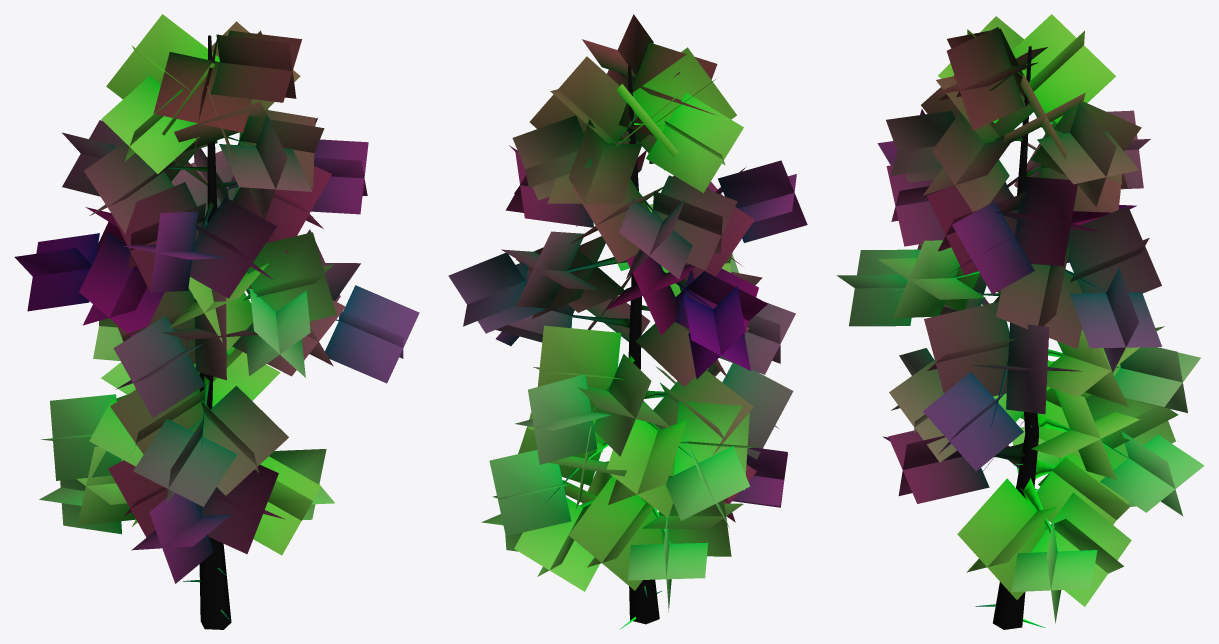
The model's file is URP_P7_Tree_4_LOD_3.fbx.
3 renders of one model, left to right at view 1: azimuth 30°, elevation 25°; view 2: azimuth 150°, elevation 25°; view 3: azimuth 270°, elevation 25°, orthographic. The views are drawn at different scales.
Visible parts, largest first — view 1: Tree_4_LOD_3; view 2: Tree_4_LOD_3; view 3: Tree_4_LOD_3.
Boxes of the visible parts, x1,y1,x2,y2 form: Tree_4_LOD_3: (14,14,419,629); Tree_4_LOD_3: (448,14,807,629); Tree_4_LOD_3: (836,14,1204,629).
Bounding box in the file's own units: 283 × 482 × 270.
